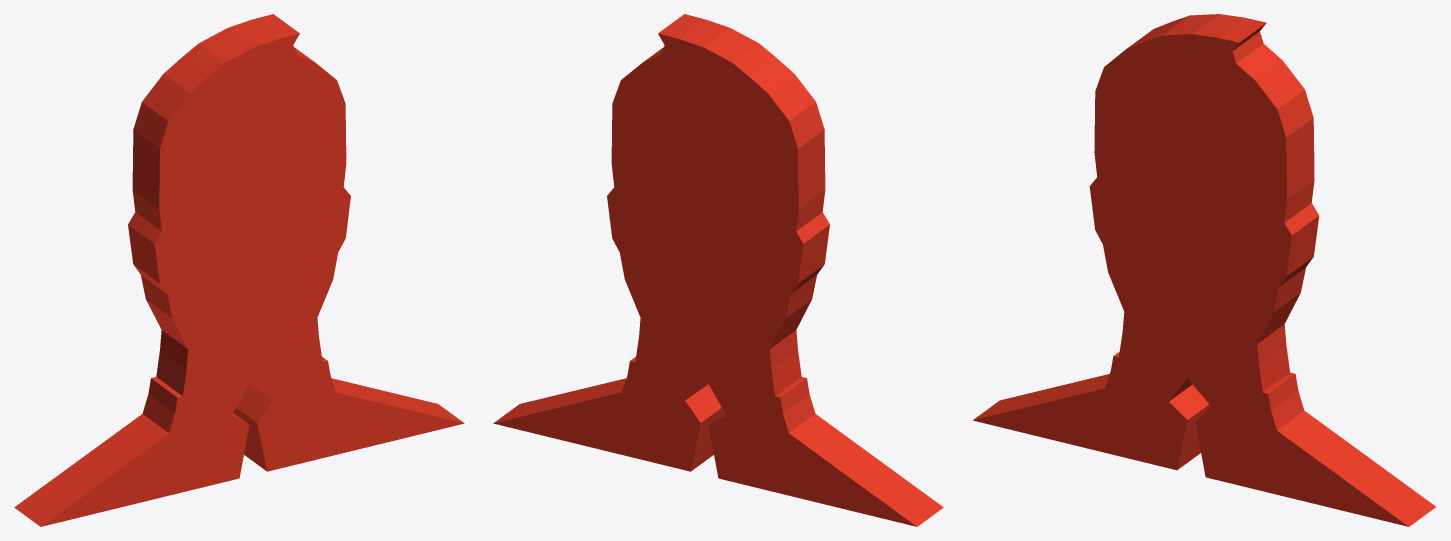
File: Icon_Person_02.fbx
The picture shows the model from 3 angles, left to right: view 1: azimuth 30°, elevation 25°; view 2: azimuth 150°, elevation 25°; view 3: azimuth 330°, elevation 25°; orthographic projection. The views are drawn at different scales.
Parts seen in each view (by area): view 1: Icon_Person_02; view 2: Icon_Person_02; view 3: Icon_Person_02.
Boxes of the visible parts, bbox=[...] form: Icon_Person_02: bbox=[14, 14, 464, 526]; Icon_Person_02: bbox=[493, 14, 943, 526]; Icon_Person_02: bbox=[973, 14, 1435, 526].
Bounding box in the file's own units: 77.14 × 74.76 × 8.39.
